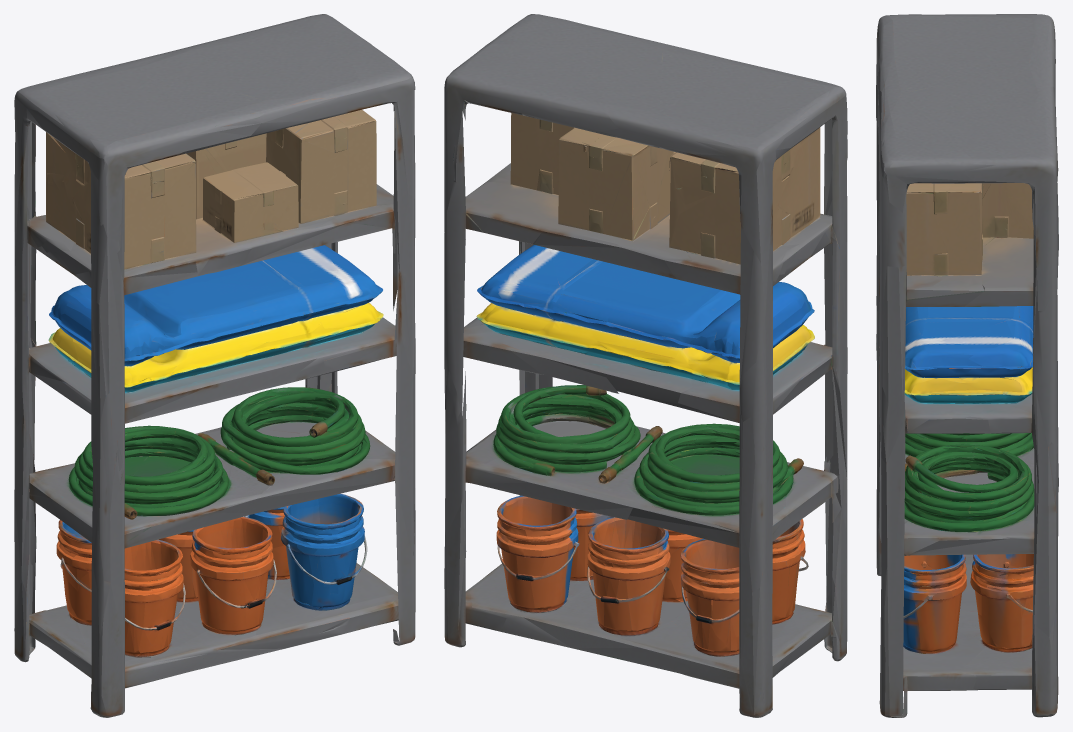
File: scaffale_magazzino.glb
The picture shows the model from 3 angles, left to right: view 1: azimuth 30°, elevation 25°; view 2: azimuth 150°, elevation 25°; view 3: azimuth 270°, elevation 25°; orthographic projection. The views are drawn at different scales.
Parts seen in each view (by area): view 1: Mesh_0; view 2: Mesh_0; view 3: Mesh_0.
Boxes of the visible parts, bbox=[...] form: Mesh_0: bbox=[14, 14, 415, 717]; Mesh_0: bbox=[444, 14, 847, 717]; Mesh_0: bbox=[876, 14, 1058, 717].
Size of the model in its own units: 1.12 by 1.9 by 0.5648.
Materials: 1 (1 with a texture image).
